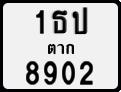letters: (71, 6, 89, 35), (51, 9, 68, 34), (78, 59, 94, 85), (25, 60, 40, 86), (42, 60, 57, 86), (61, 60, 76, 86), (35, 9, 45, 35)
province: (46, 41, 76, 56)
